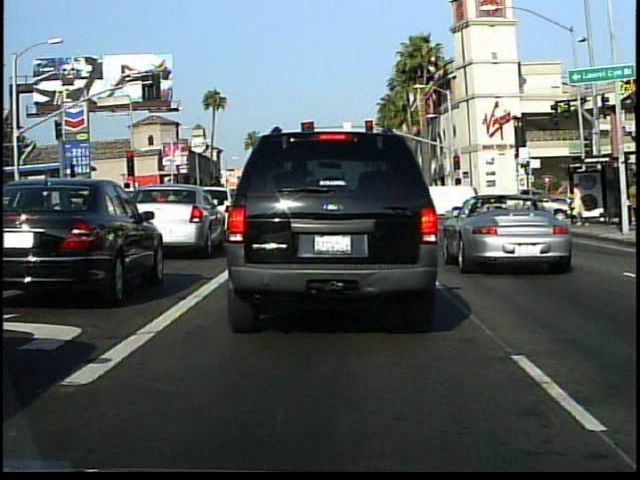person: (570, 180, 591, 227)
